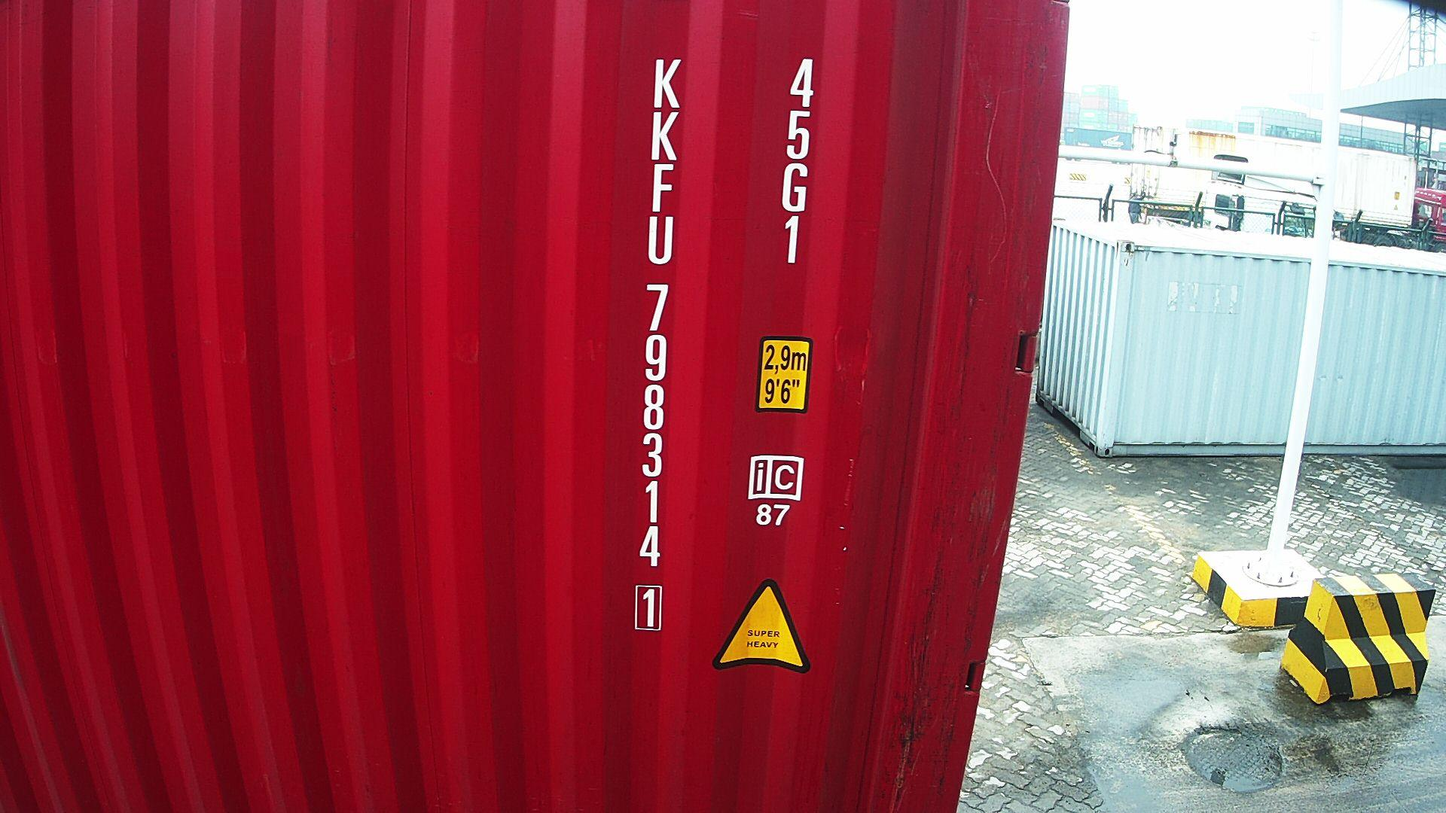container-numbers: (631, 55, 684, 637), (773, 54, 819, 270)
